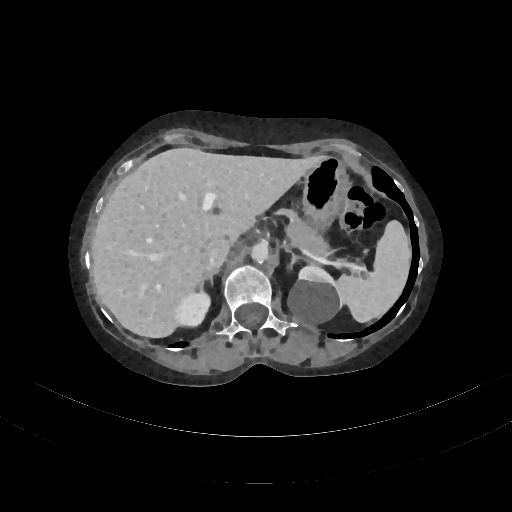Lesion: (286, 276, 341, 329)
